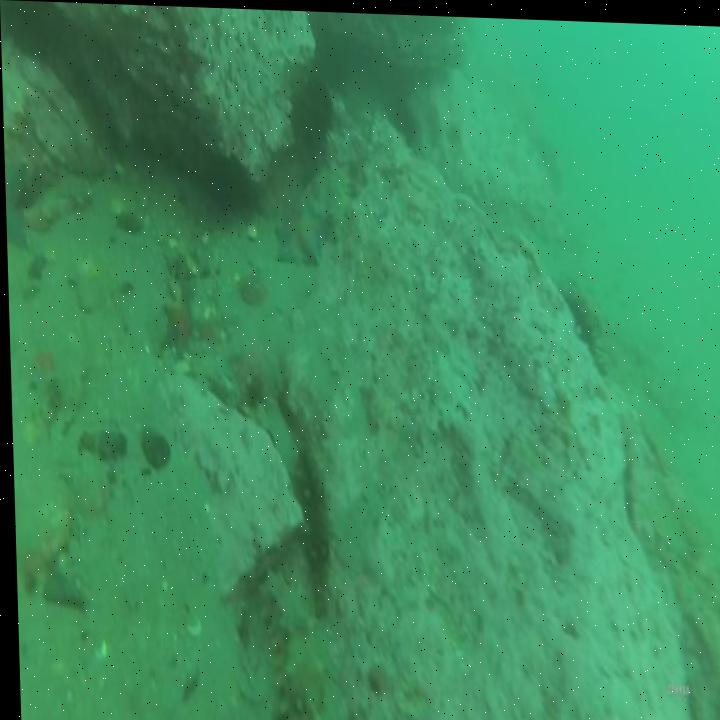echinus: (548, 265, 604, 378), (285, 67, 337, 166), (0, 0, 70, 68), (383, 88, 423, 155)
holothurian: (253, 567, 326, 720), (289, 440, 335, 610)
starfish: (269, 191, 330, 270), (155, 289, 203, 365), (3, 150, 33, 253)
